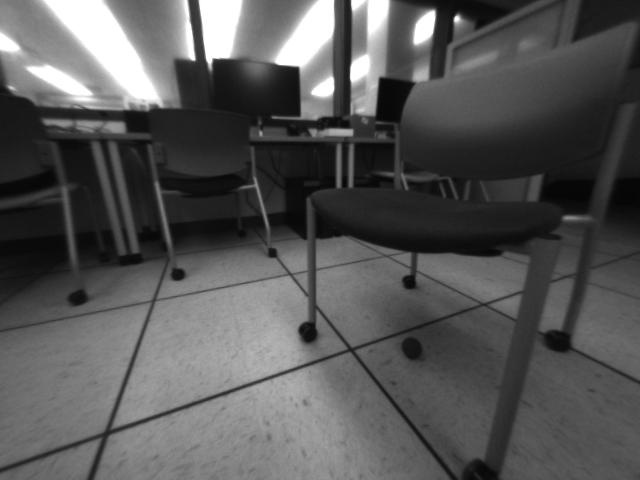dogtoy: (398, 332, 428, 364)
